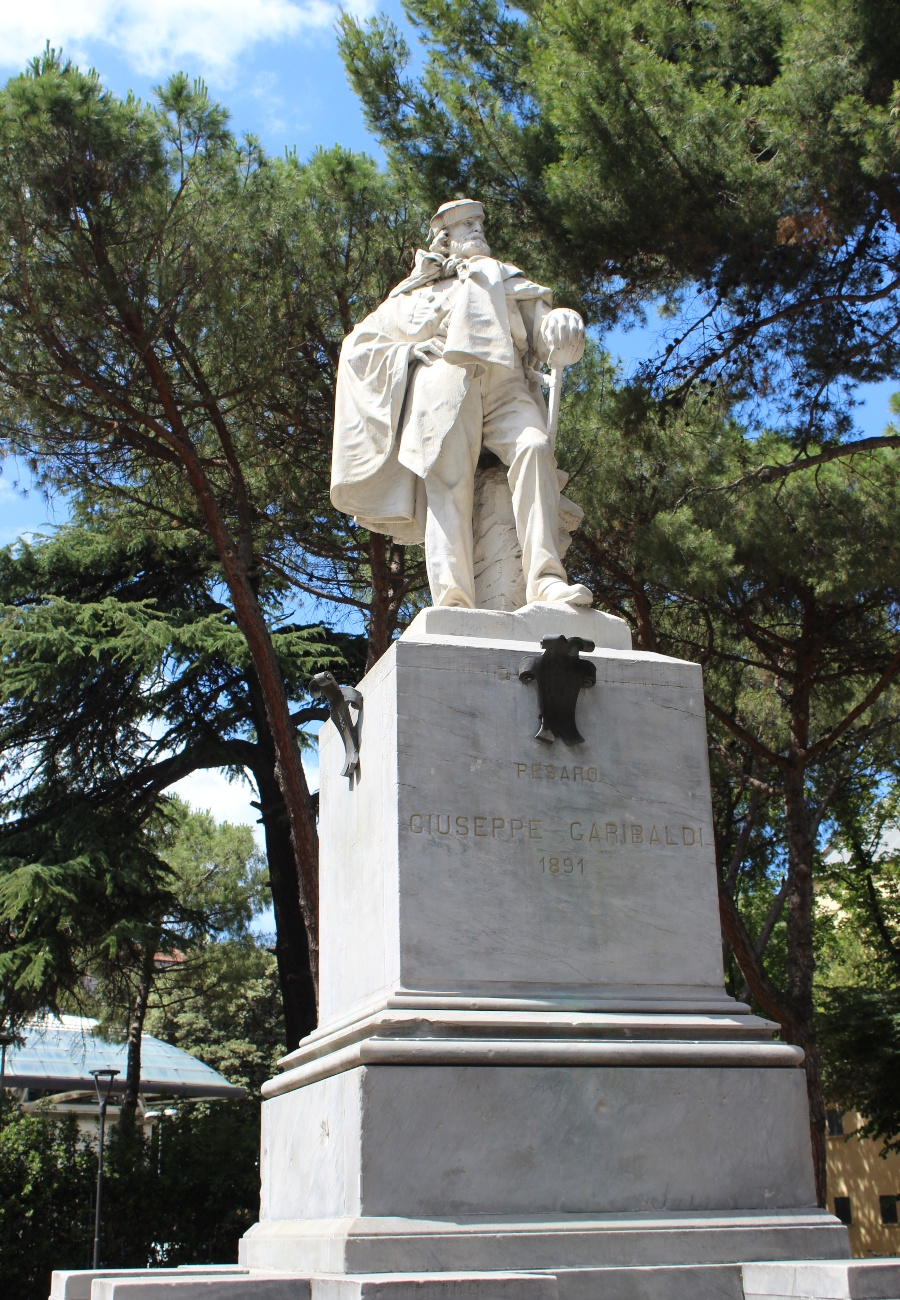Giuseppe Garibaldi: (329, 199, 594, 617)
